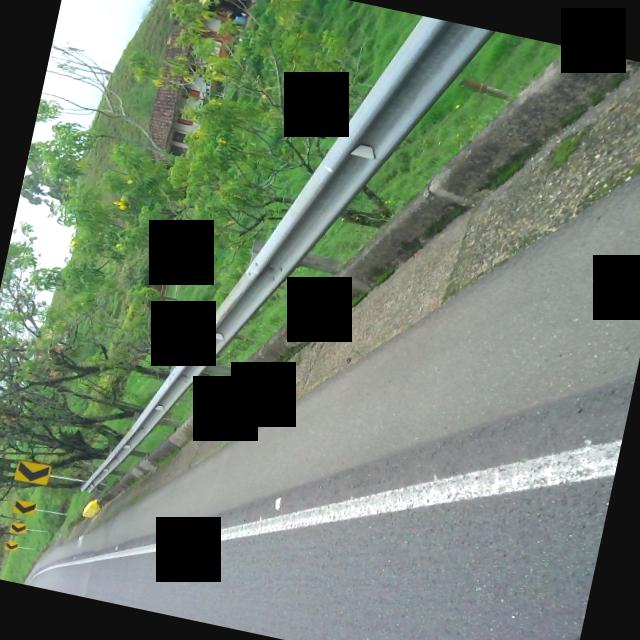DITCH: (22, 0, 640, 640), (59, 0, 640, 640)
